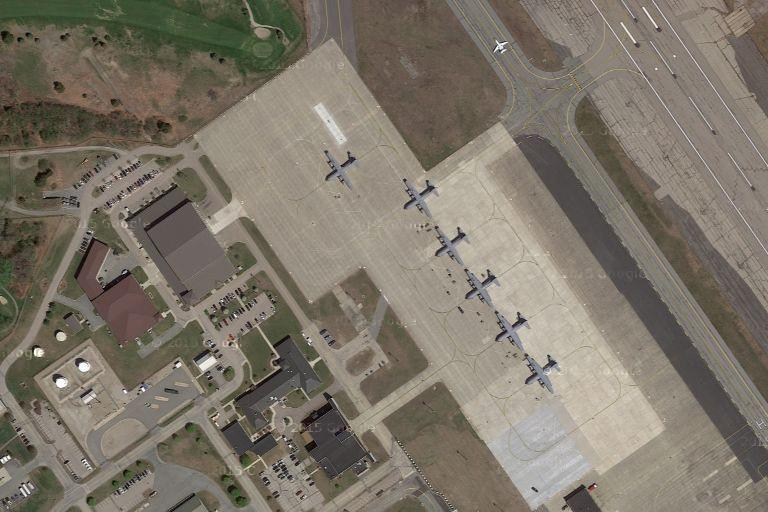C-130: (490, 306, 531, 354), (460, 265, 502, 311), (520, 348, 561, 395), (429, 223, 471, 267), (399, 174, 441, 217), (322, 146, 361, 191)
